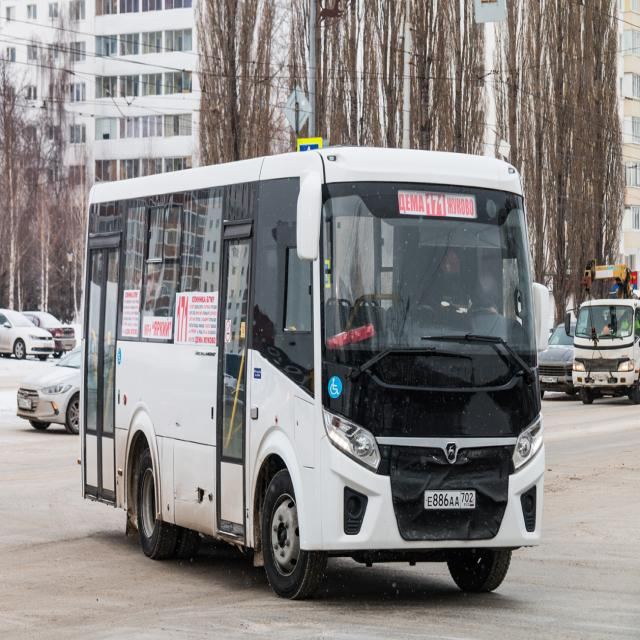number-of-bus: (175, 295, 191, 343), (427, 193, 446, 218)
